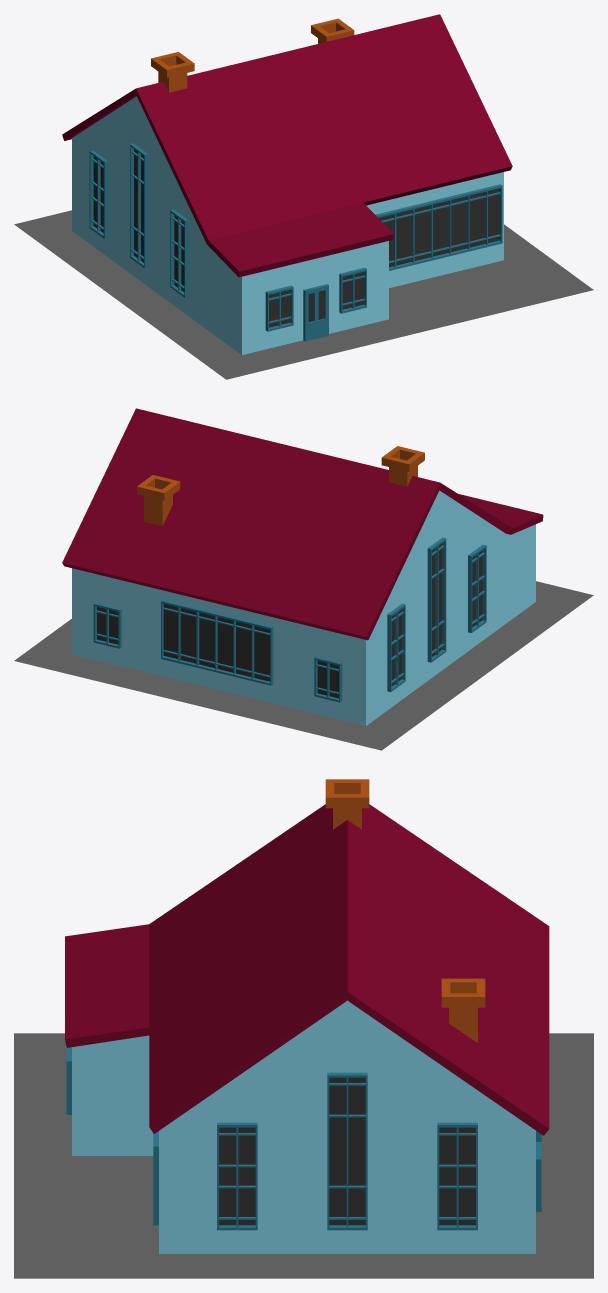
File: house_03.fbx
3 views of the same model, one above another, from view 1: azimuth 30°, elevation 25°; view 2: azimuth 150°, elevation 25°; view 3: azimuth 270°, elevation 25° (orthographic). The views are drawn at different scales.
Visible parts, largest first — view 1: house_03; view 2: house_03; view 3: house_03.
Part boxes in pixels (box(x1,y1,x2,y2)): house_03: box(14, 14, 593, 379); house_03: box(14, 408, 593, 750); house_03: box(14, 779, 593, 1278).
Size of the model in its own units: 20 by 11.06 by 20.
